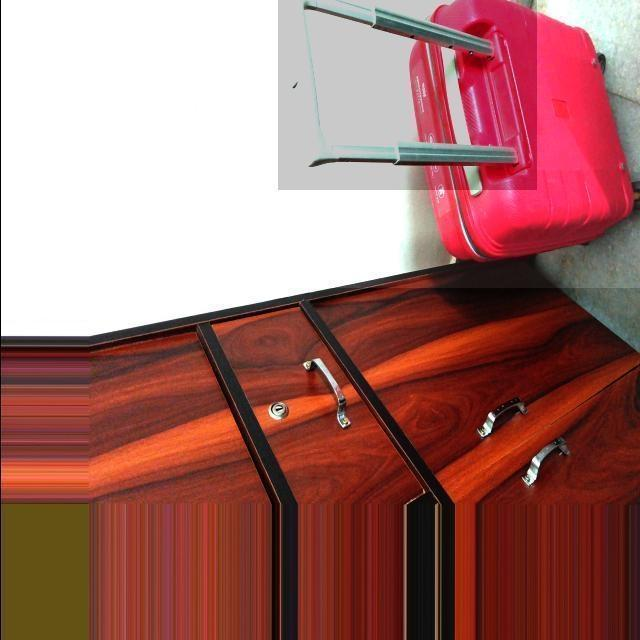Suitcase: (278, 4, 636, 288)
